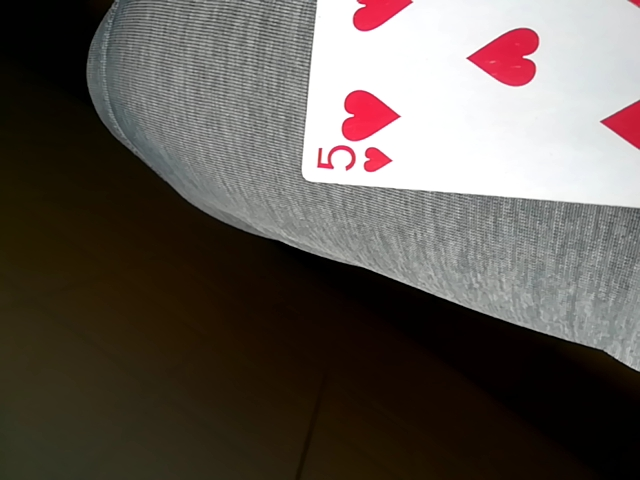hx 5: (298, 0, 639, 215)
